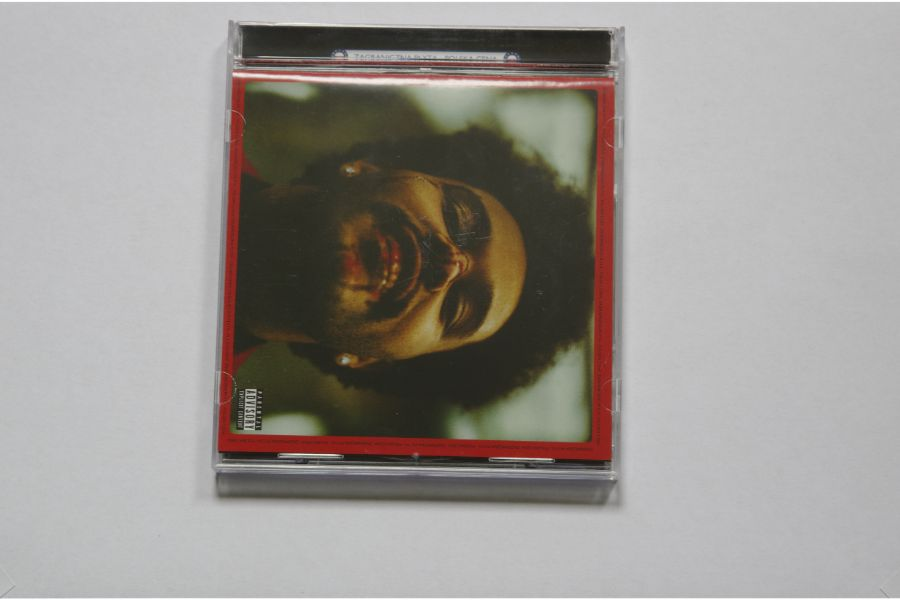album: (213, 16, 624, 485)
